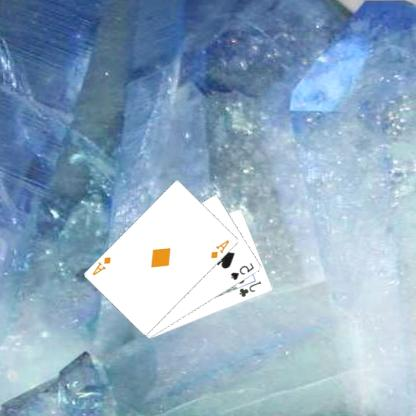5S: (230, 260, 257, 282)
AD: (210, 237, 232, 260), (92, 254, 114, 277)
JC: (238, 279, 264, 298)
